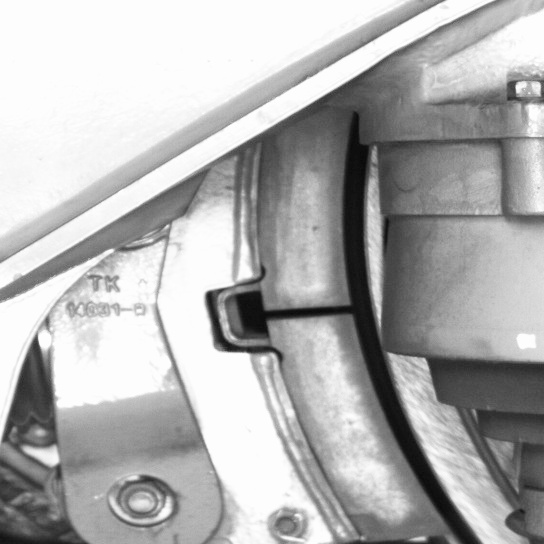KnifeSwitch: (270, 138, 486, 542)
